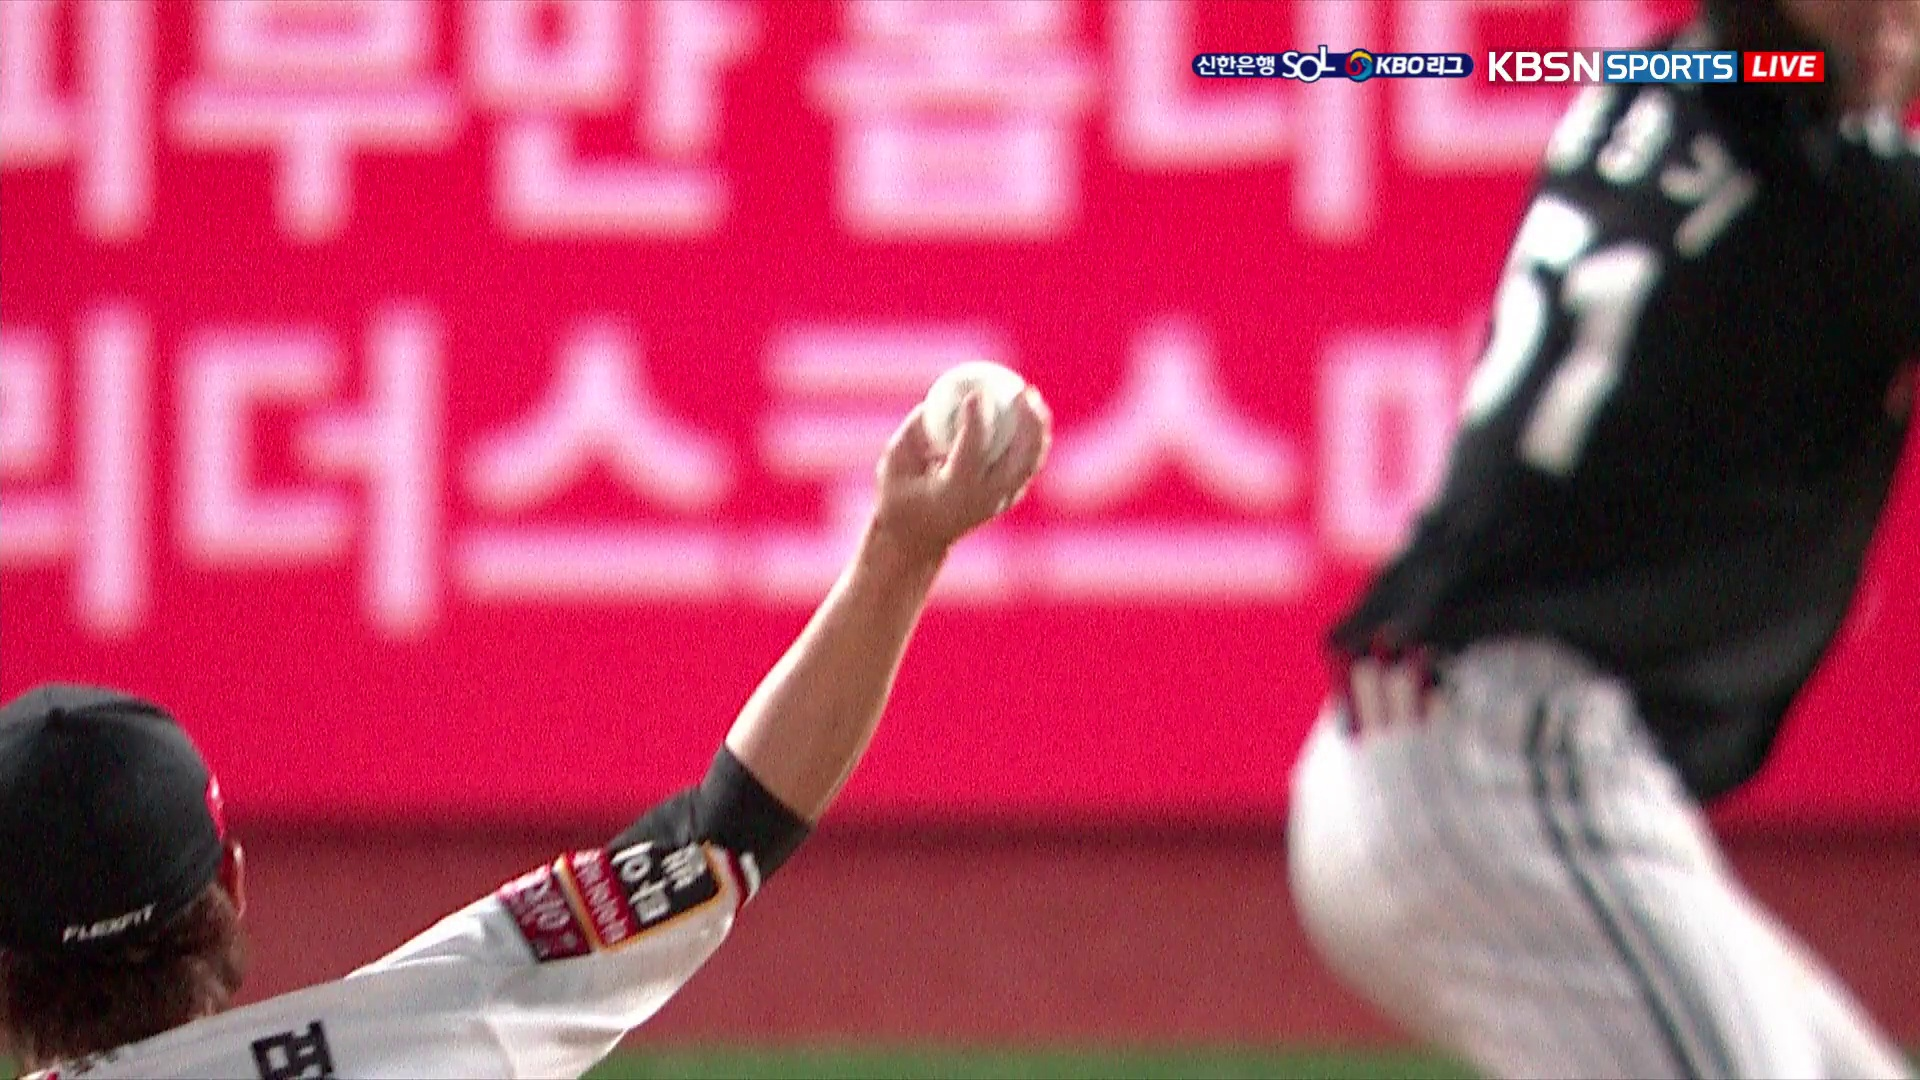zoomin_hand: (671, 353, 1062, 910)
